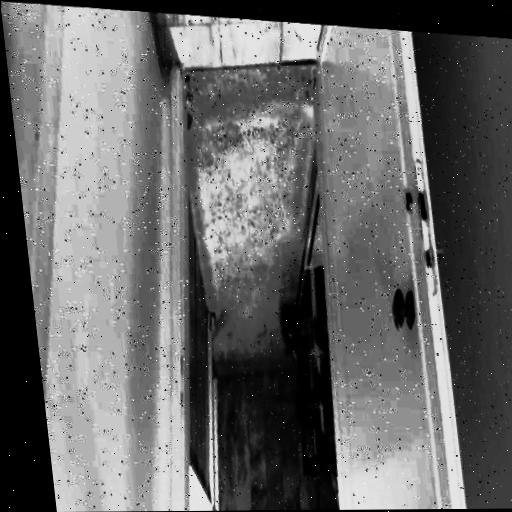balloon: (282, 297, 310, 344)
